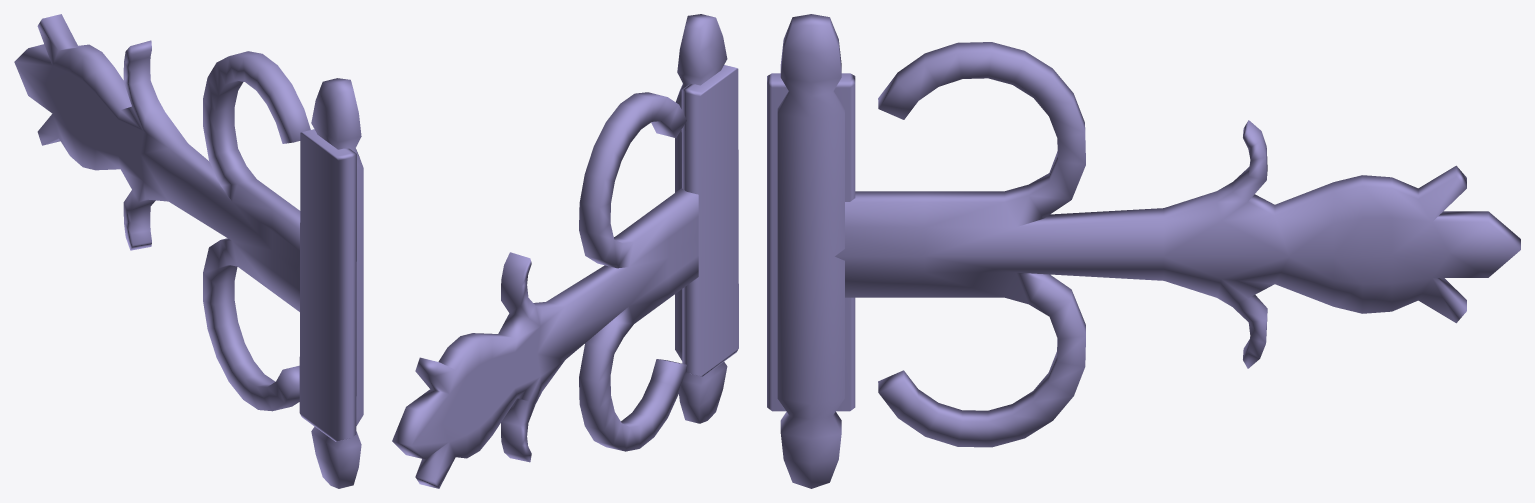
Rendered from Door_IronWorks_01.fbx.
The picture shows the model from 3 angles, left to right: view 1: azimuth 30°, elevation 25°; view 2: azimuth 150°, elevation 25°; view 3: azimuth 270°, elevation 25°; orthographic projection. The views are drawn at different scales.
Visible parts, largest first — view 1: Door_IronWorks_01; view 2: Door_IronWorks_01; view 3: Door_IronWorks_01.
Part boxes in pixels (x1,y1,x2,y2): Door_IronWorks_01: [14, 14, 363, 488]; Door_IronWorks_01: [392, 14, 738, 488]; Door_IronWorks_01: [767, 14, 1520, 488].
Bounding box in the file's own units: 4.88 × 46.4 × 68.4.
